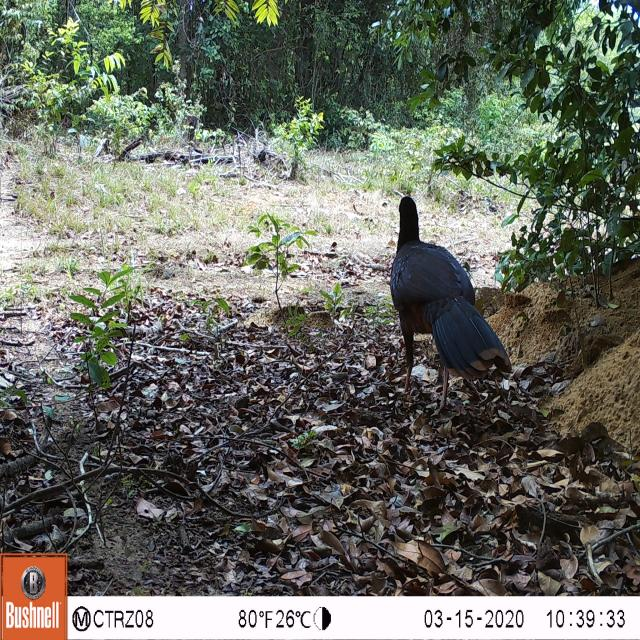Salvins Curassow: (376, 187, 520, 426)
